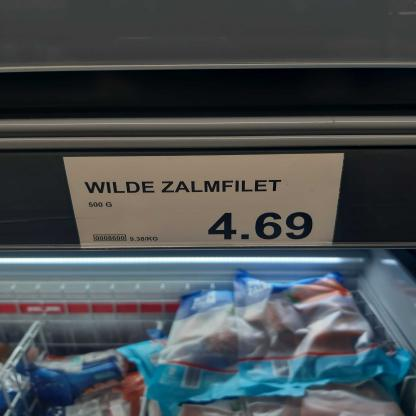prtg: (63, 151, 346, 250)
